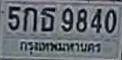0: (104, 7, 116, 32)
4: (90, 8, 101, 32)
5: (7, 5, 19, 30)
8: (75, 8, 86, 31)
9: (61, 7, 72, 31)
A01: (22, 6, 36, 31)
A24: (40, 7, 55, 31)
BKK: (18, 39, 102, 56)
